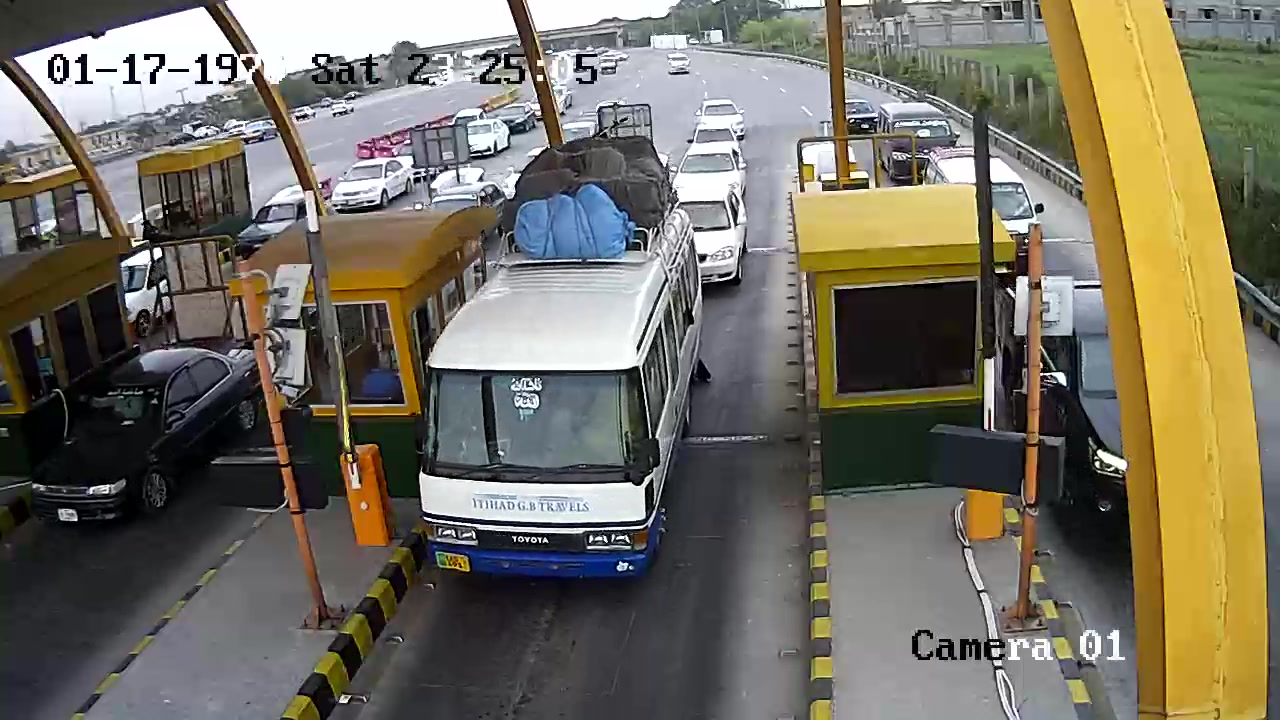F3: (440, 127, 693, 589)
